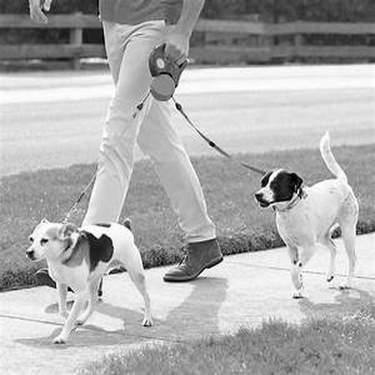dog: (18, 183, 164, 358), (244, 124, 365, 307)
